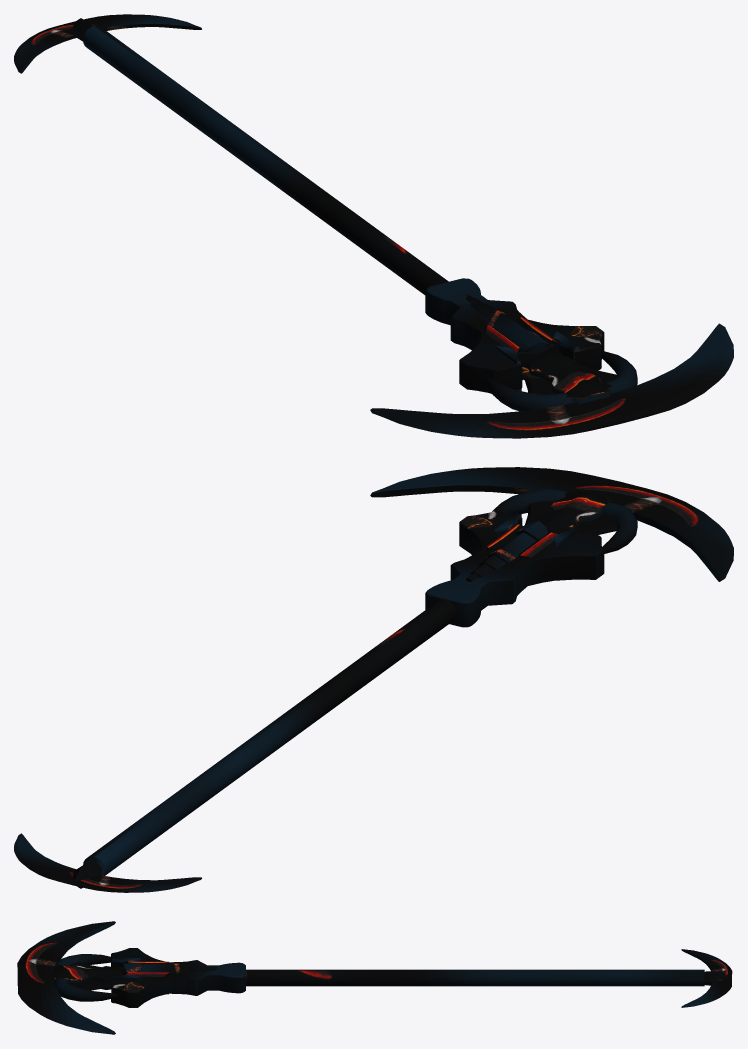
The model's file is ThunderstormAxe.fbx.
The picture shows the model from 3 angles, top to bottom: view 1: azimuth 30°, elevation 25°; view 2: azimuth 150°, elevation 25°; view 3: azimuth 270°, elevation 25°; orthographic projection. The views are drawn at different scales.
Visible parts, largest first — view 1: defaultMaterial; view 2: defaultMaterial; view 3: defaultMaterial.
Part boxes in pixels (bbox=[...]): defaultMaterial: bbox=[14, 14, 733, 438]; defaultMaterial: bbox=[14, 467, 733, 892]; defaultMaterial: bbox=[17, 921, 732, 1034].
Bounding box in the file's own units: 73.88 × 9.47 × 200.
